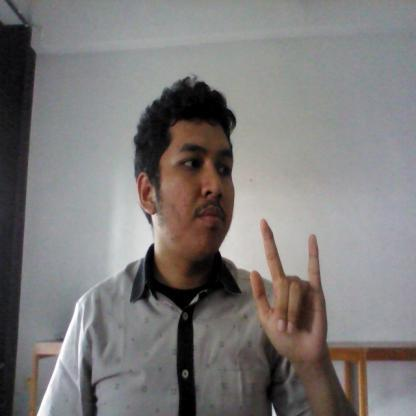ILoveYou: (245, 215, 330, 365)
